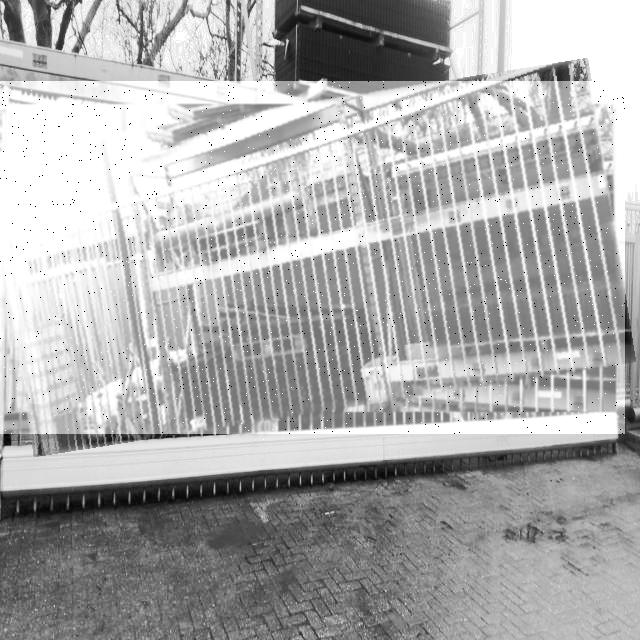fences: (0, 81, 625, 434)
